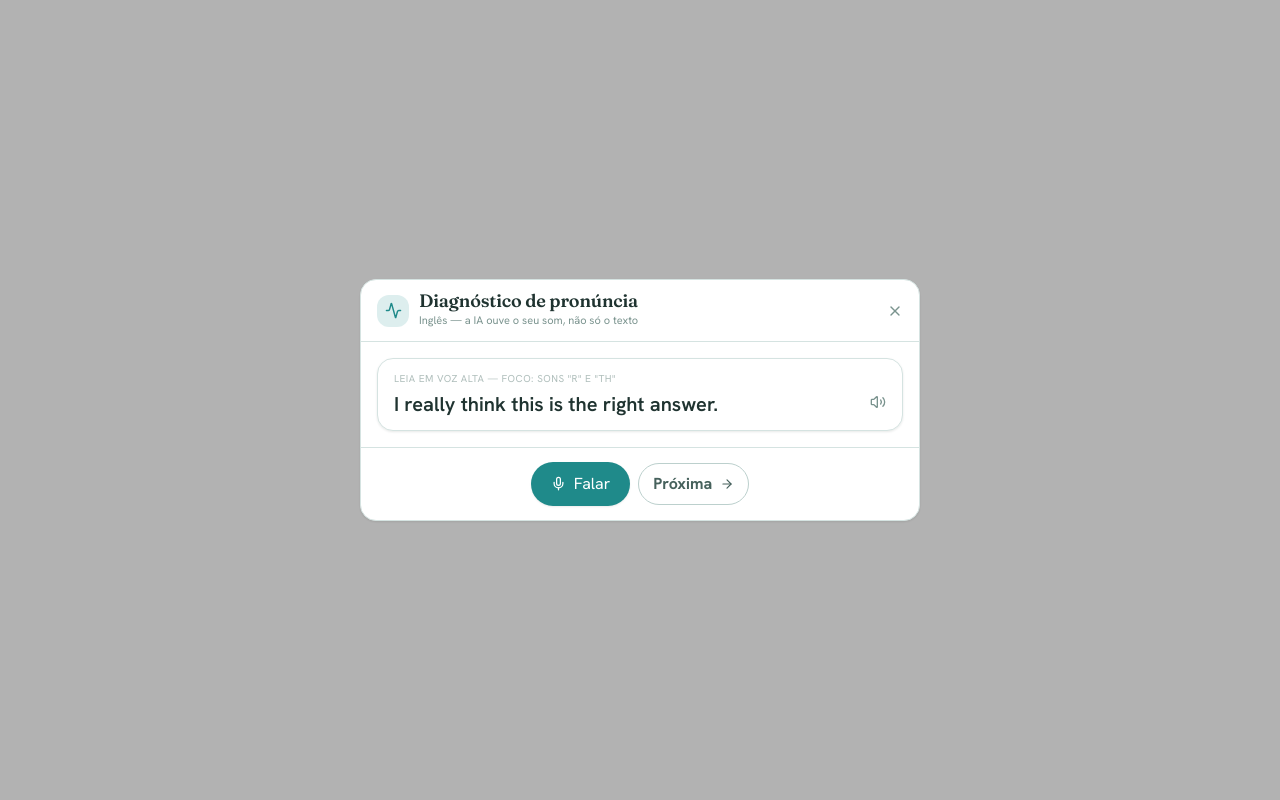
Test: PronunciationDiagnostic › palavras erradas baixam o score
Step 1. Click the button "Falar" → (580, 484), box [531, 462, 630, 506]
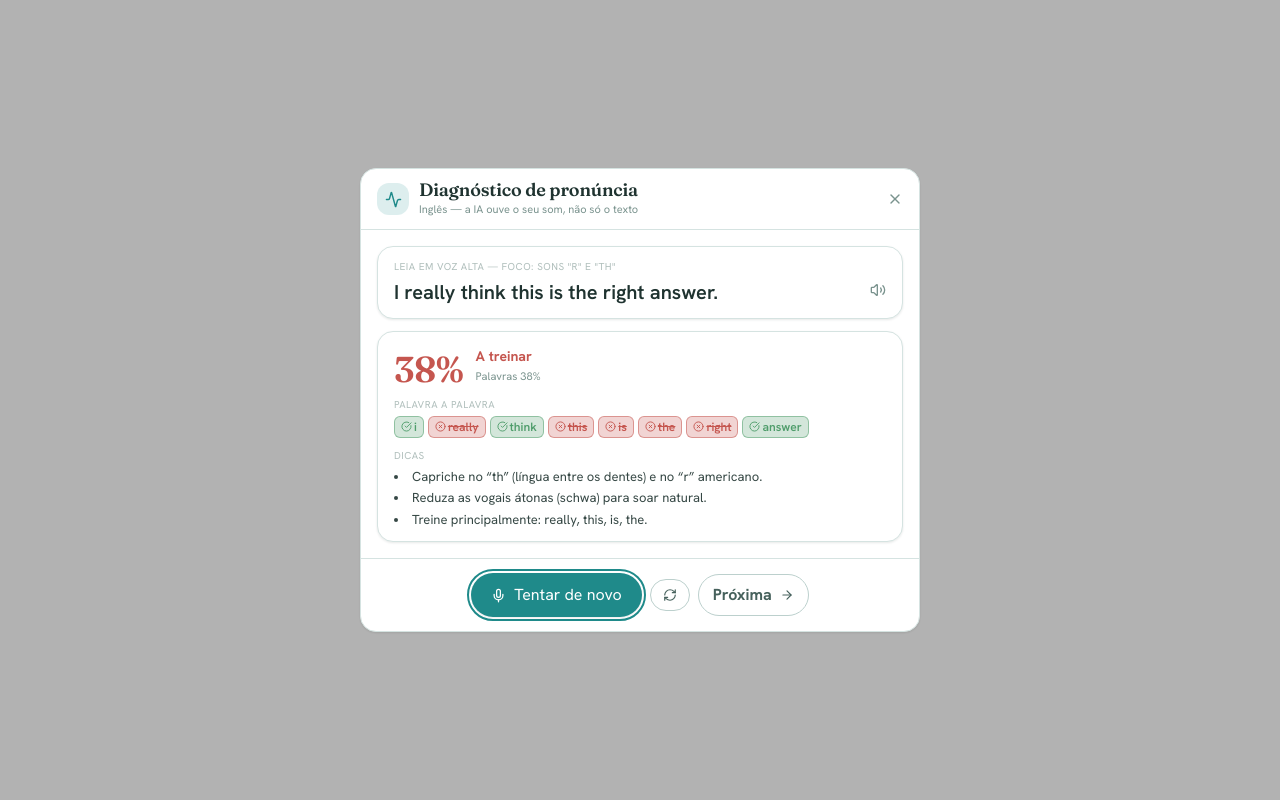
Result: the text "Dicas" is shown at [394, 449, 425, 462]
